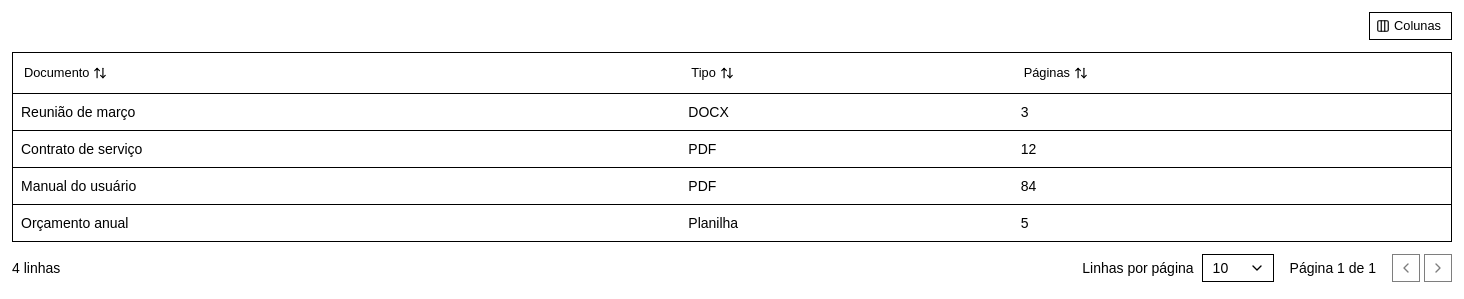
Scenario: DataTable, modo client › ordena pelo cabeçalho: crescente, decrescente, sem ordem
What coordinates should you click on to do the following:
click the button "Documento"
I would click on:
 (64, 73)
Its box is [13,59,114,87].
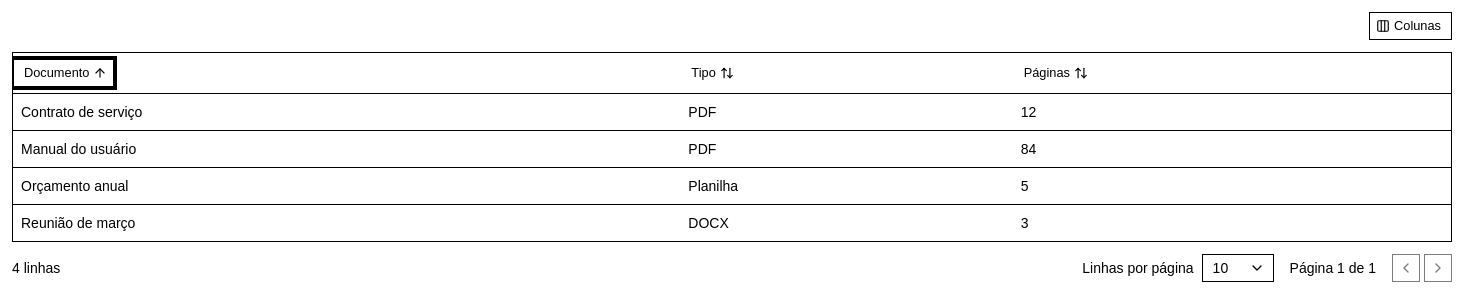
expect the column heading "Documento" has attribute aria-sort="ascending": met, box [13,53,680,93]
What coordinates should you click on to do the following:
click the button "Documento"
I would click on:
 (64, 73)
Its box is [13,59,114,87].
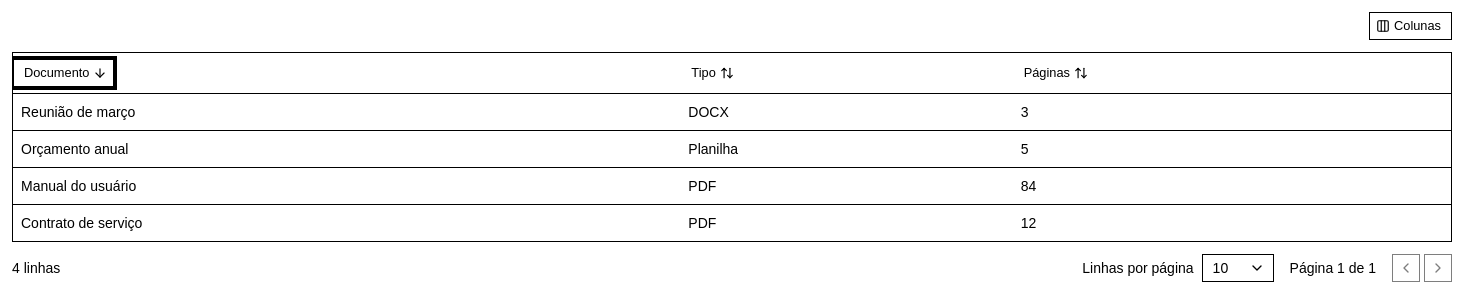
expect the cell "Reunião de março" is shown: met, box [13,93,680,130]
expect the column heading "Documento" has attribute aria-sort="descending": met, box [13,53,680,93]
What coordinates should you click on to do the following:
click the button "Documento"
I would click on:
 (64, 73)
Its box is [13,59,114,87].
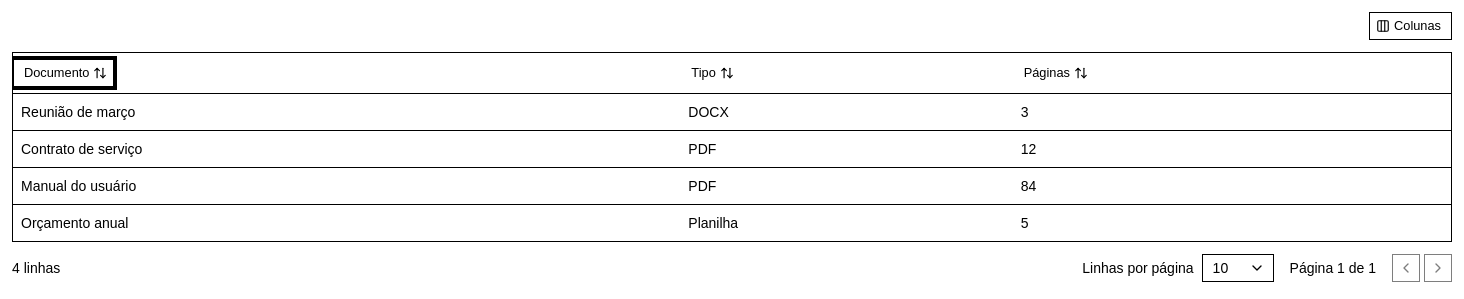
expect the cell "Reunião de março" is shown: met, box [13,93,680,130]
expect the column heading "Documento" does not have attribute aria-sort: met, box [13,53,680,93]
